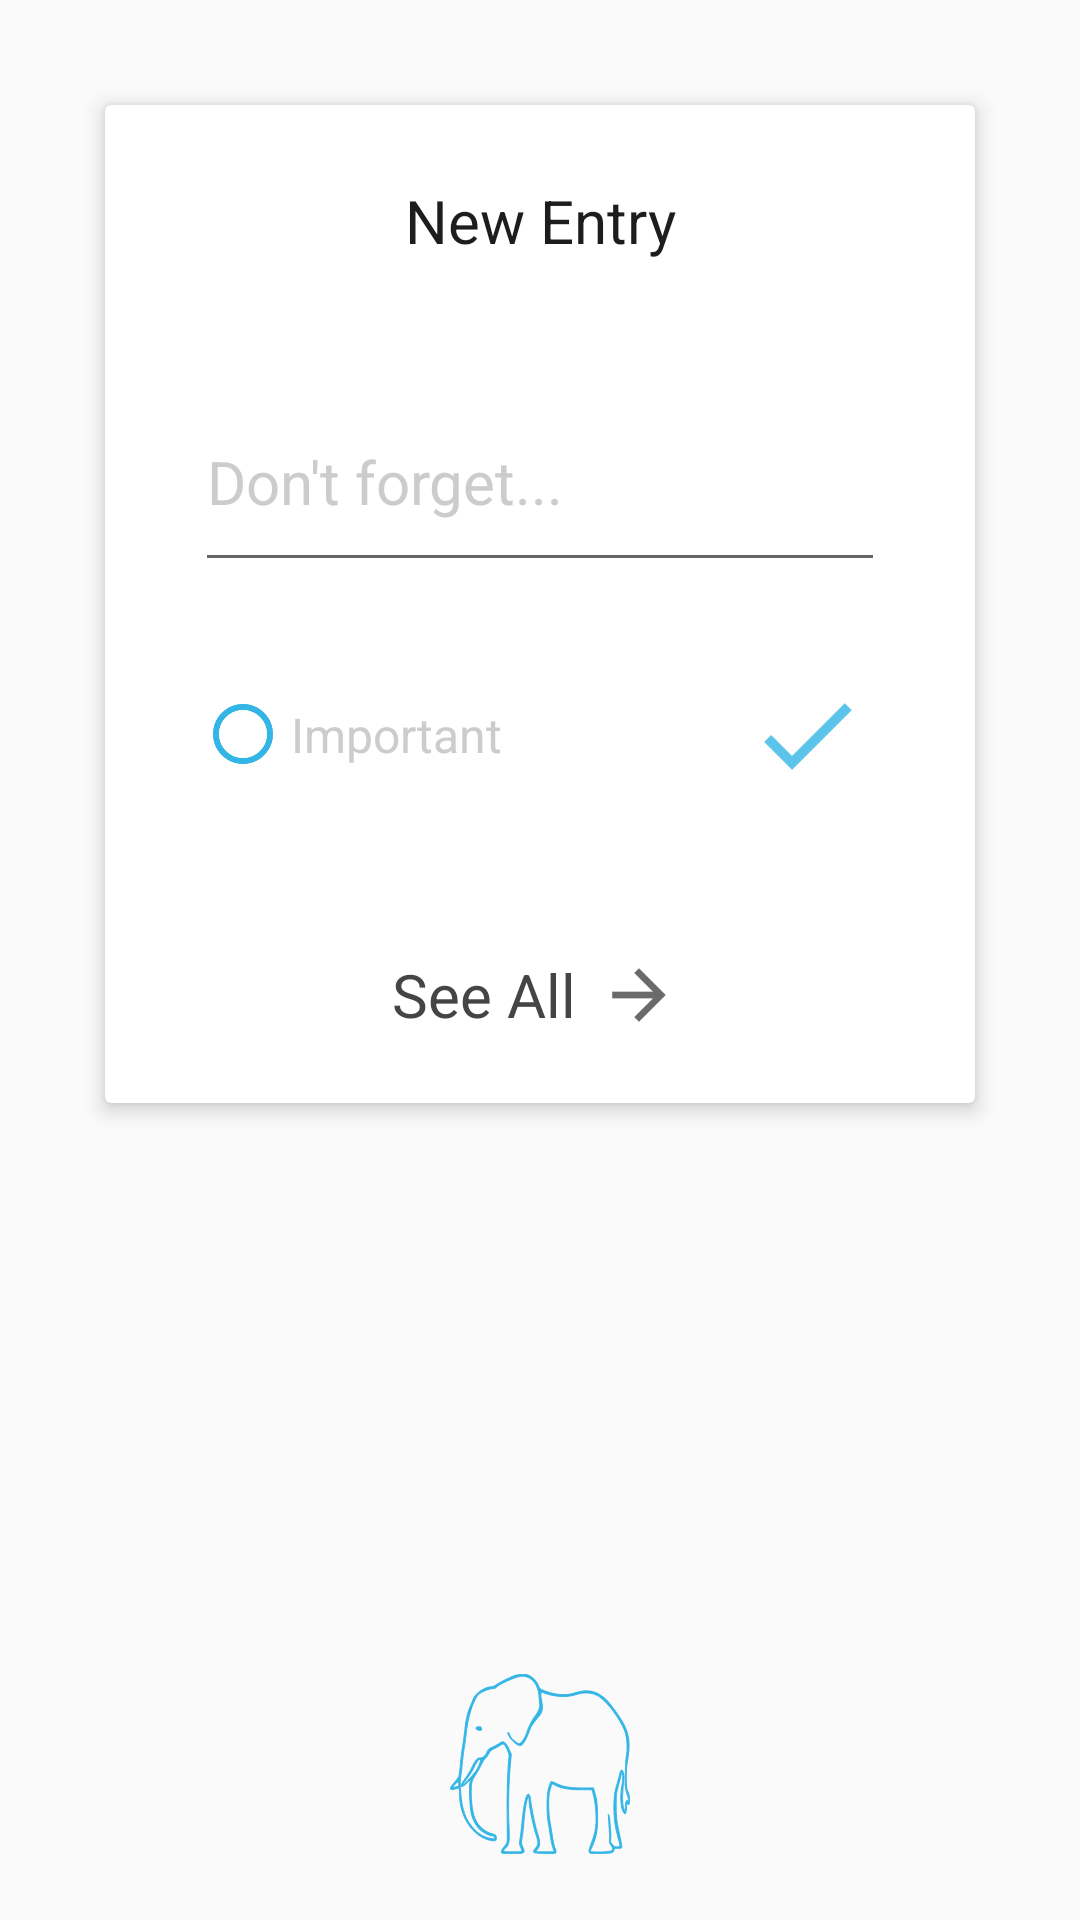

Screen size 1080 × 1920. Icon name, then its box in pixels as (x1, y1, x2, y2):
done: (764, 703, 852, 770)
ele: (450, 1674, 630, 1854)
forward: (612, 968, 666, 1022)
